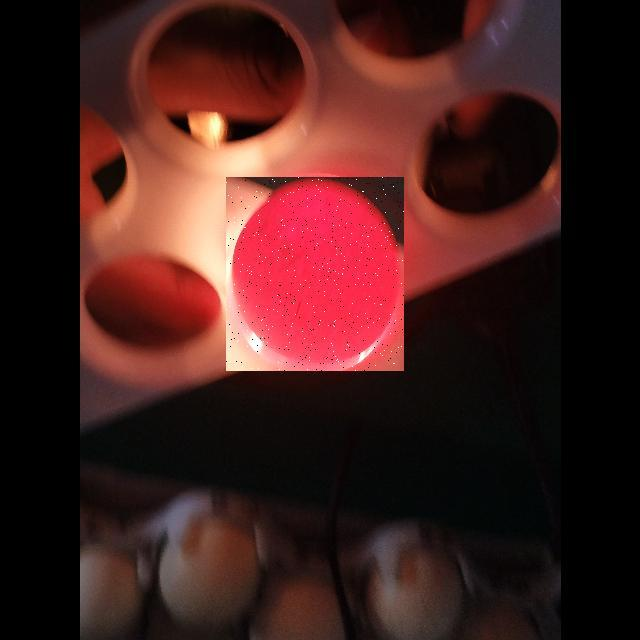Infertile: (226, 177, 404, 371)
